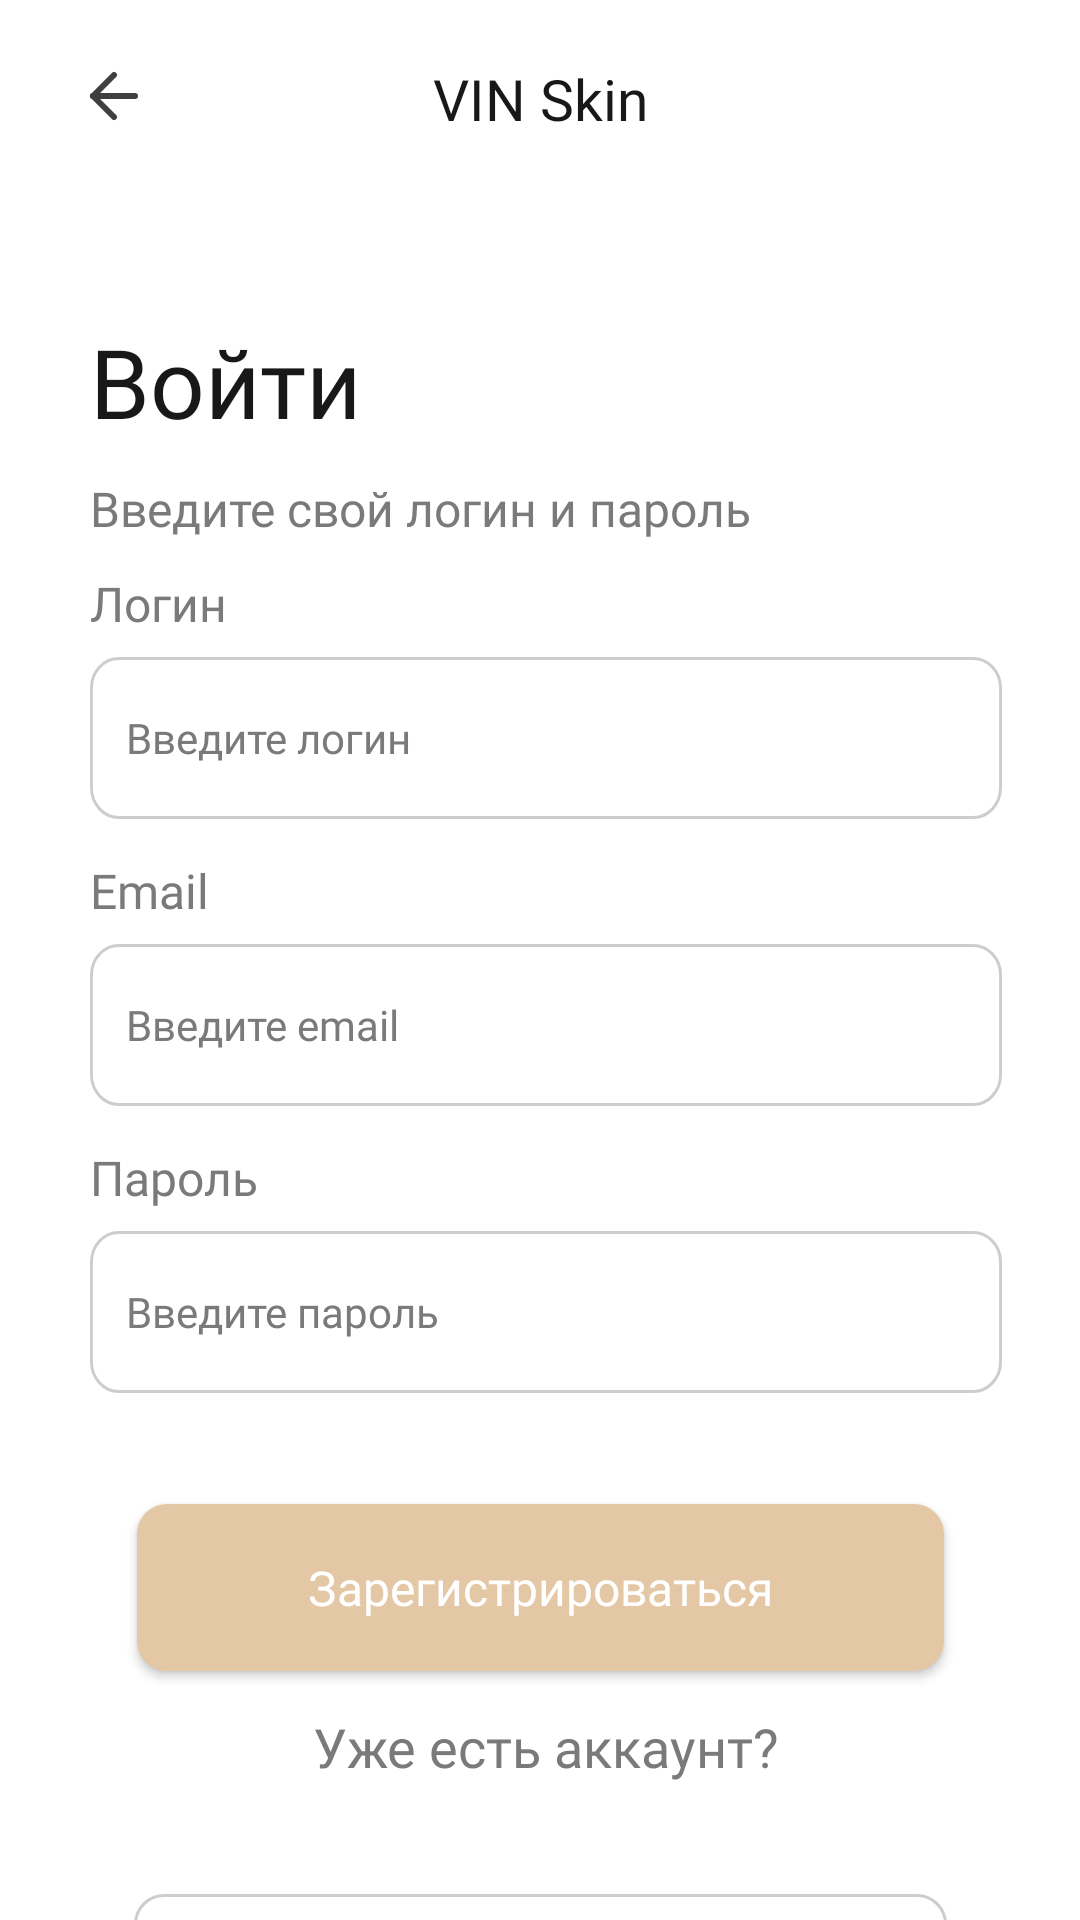

Screen size 1080w x 1920h. Icon name, then its box in pixels as (x1,y1,x2,y2):
back arrow: (90,72,138,120)
